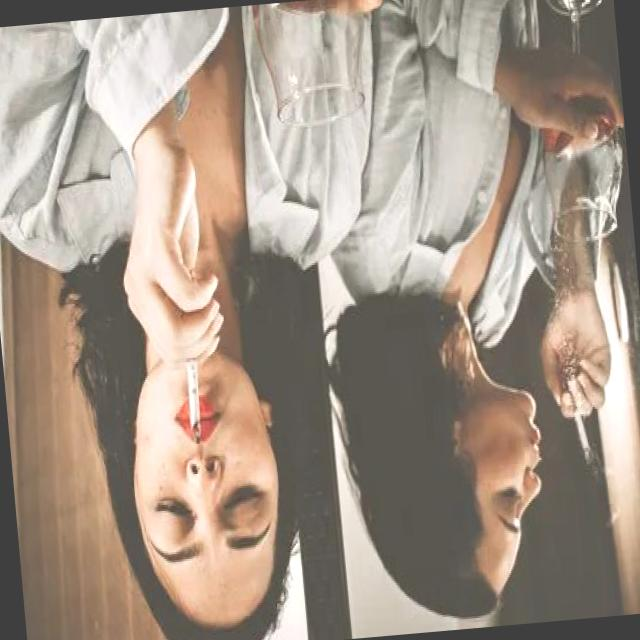smoke: (180, 349, 207, 446), (568, 404, 598, 472)
